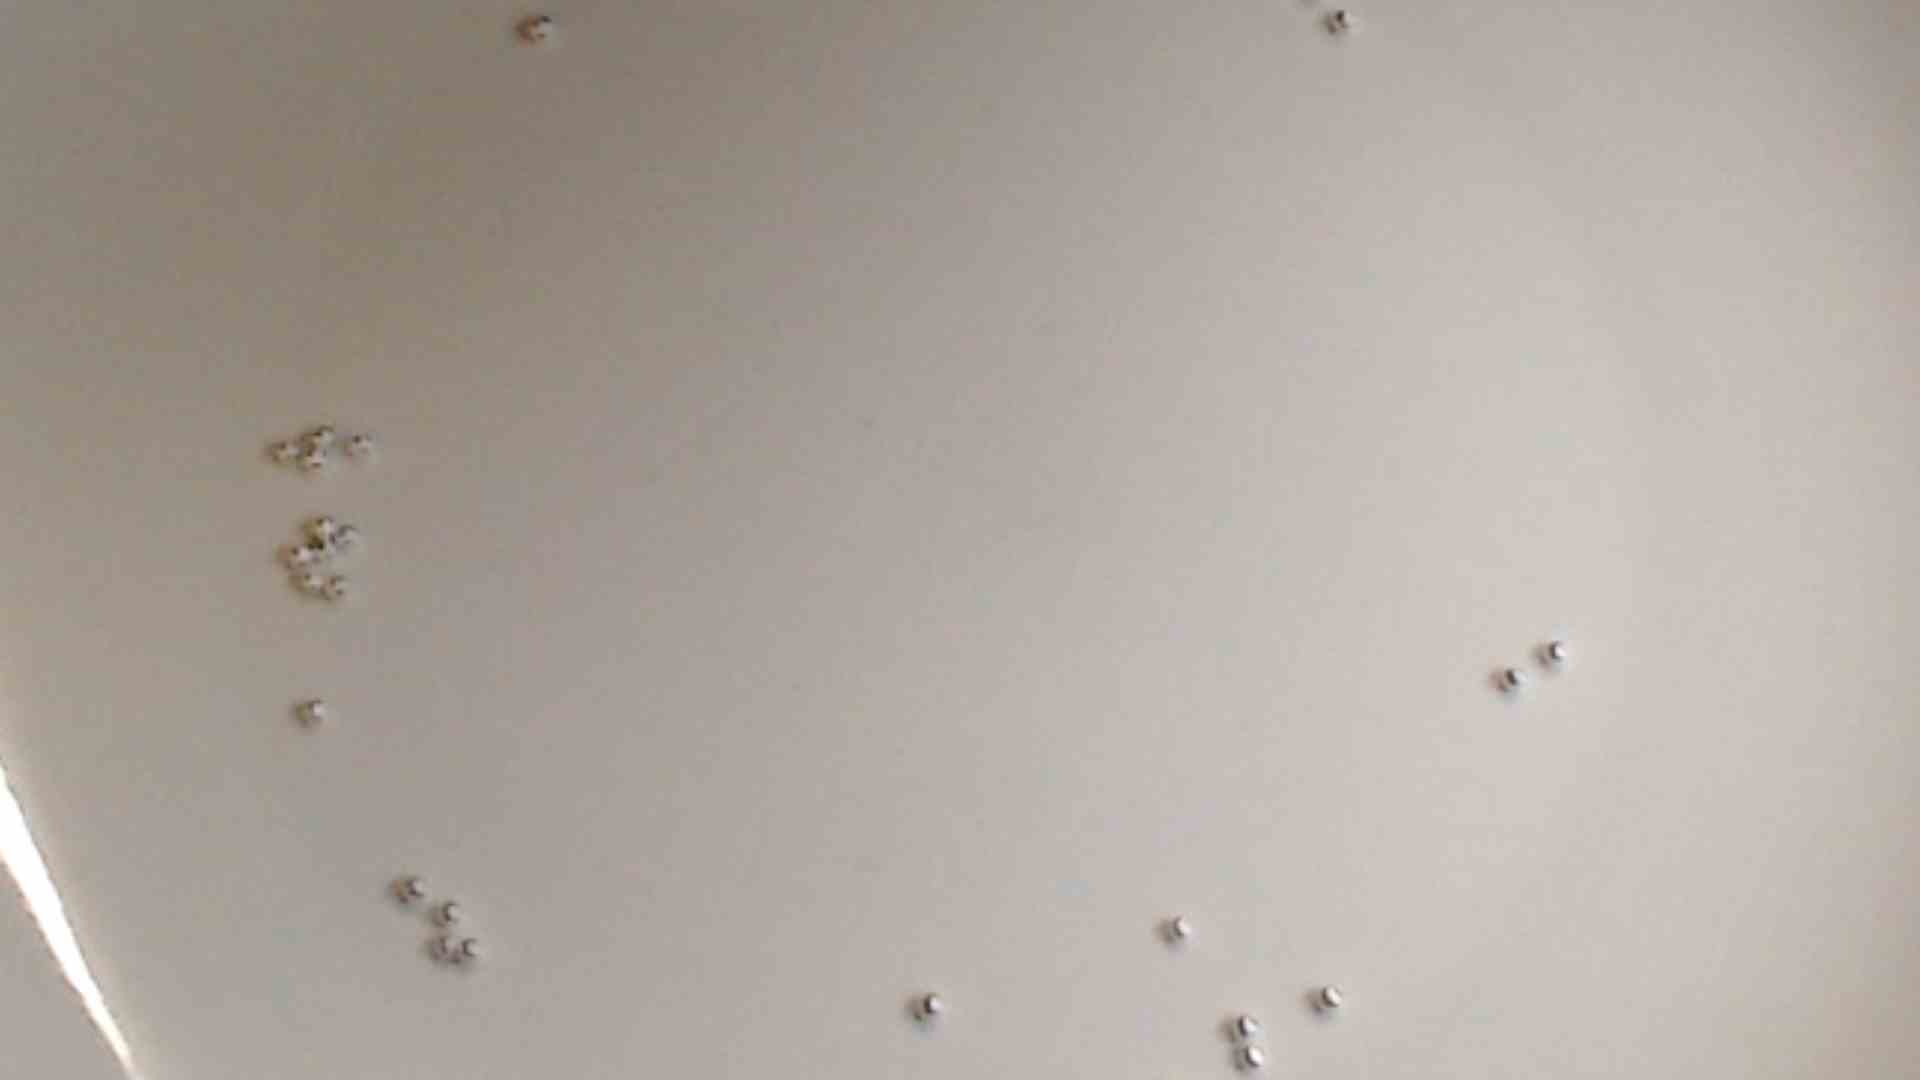chocolate: (1538, 632, 1573, 671), (1160, 909, 1196, 945), (294, 694, 332, 728), (1325, 4, 1360, 41), (313, 574, 349, 607), (1229, 1007, 1266, 1040), (1236, 1040, 1273, 1073), (1309, 978, 1344, 1013), (520, 15, 554, 47), (429, 931, 462, 965), (291, 564, 324, 597), (342, 426, 373, 459), (268, 436, 301, 468), (396, 873, 427, 906), (914, 988, 945, 1021), (303, 417, 334, 451), (298, 446, 328, 479), (1491, 663, 1524, 694), (328, 522, 363, 550), (280, 541, 309, 571), (309, 508, 338, 537), (458, 939, 487, 968), (305, 537, 334, 564), (436, 899, 465, 927)
